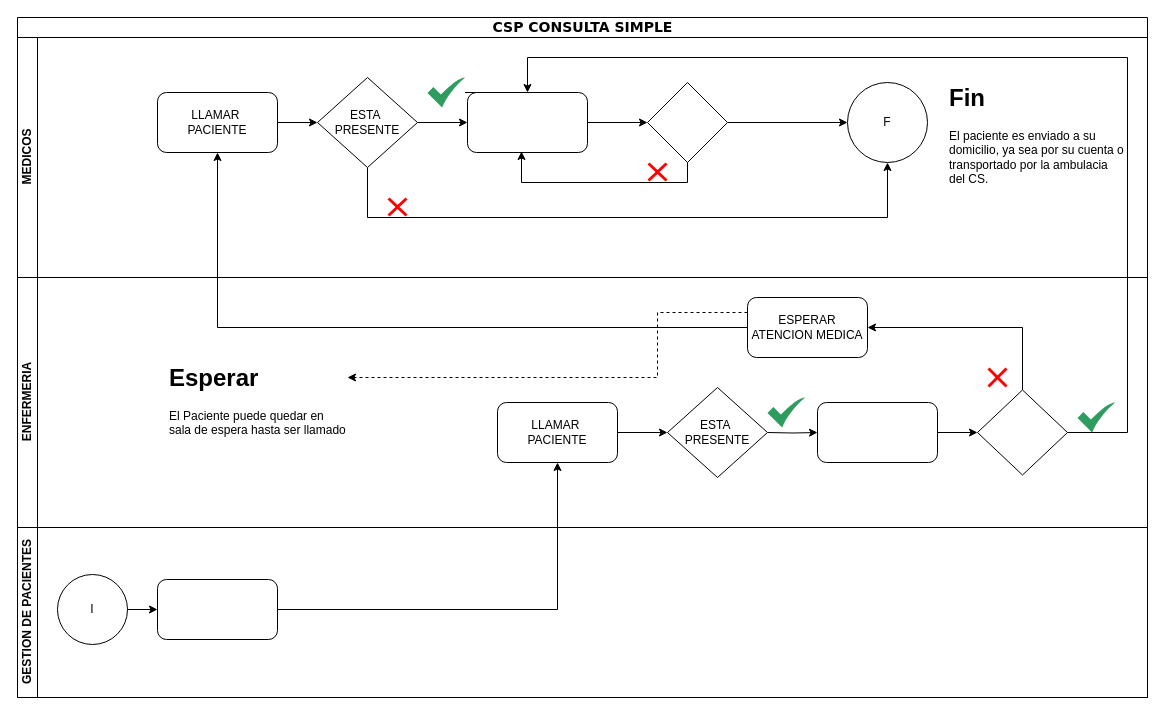
The diagram is 1165 pixels wide and 715 high, and some of its shapes have lost their labels. The shapes that lost their labels are listed below. From the top down, each one's centre as x and y in pixels, then its label:
the point at 527,122: ATENDER PACIETNE
the point at 687,122: Fin Atencion
the point at 877,432: REALIZAR TRIAJE
the point at 1022,432: Shockroom/ Respiratorio
the point at 217,609: RECEPCIONAR PACIENTES
